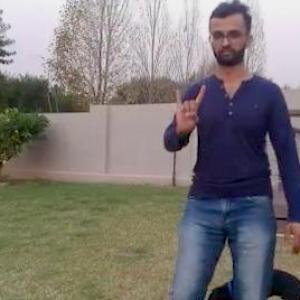takeoff-hand: (169, 76, 209, 142)
